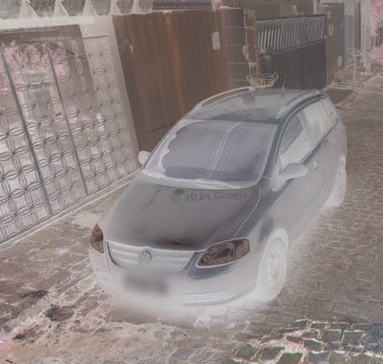car: (87, 73, 349, 311)
